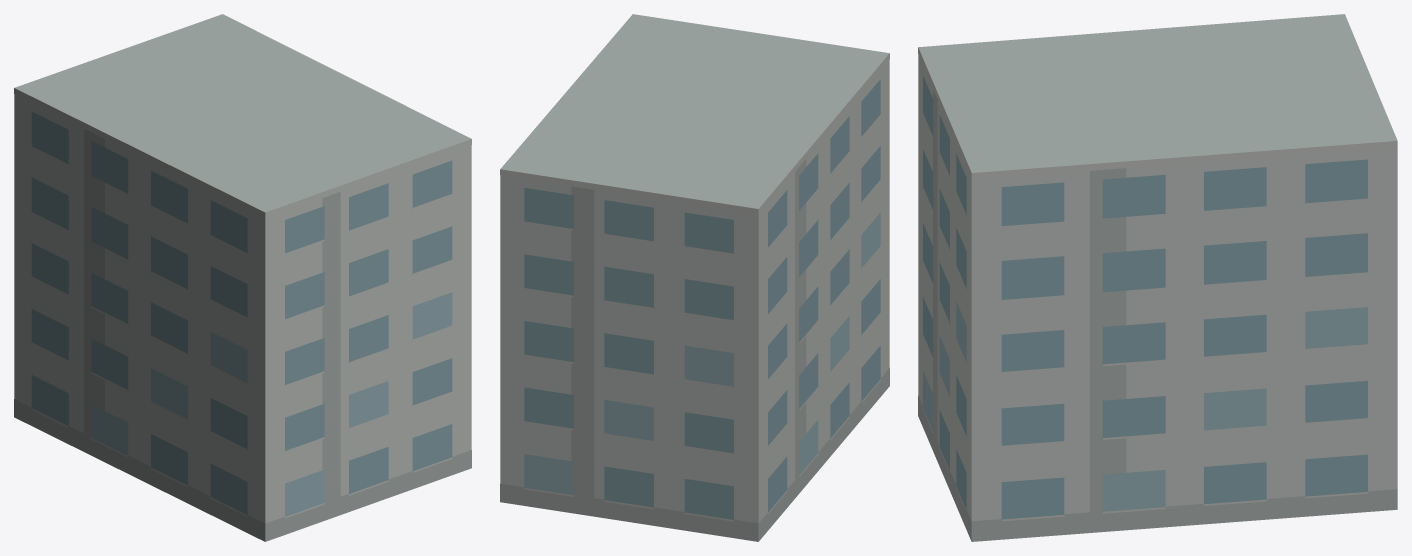
File: survey-upis-32840911.glb
3 views of the same model, side by side, from view 1: azimuth 30°, elevation 25°; view 2: azimuth 150°, elevation 25°; view 3: azimuth 270°, elevation 25° (orthographic). The views are drawn at different scales.
Visible parts, largest first — view 1: survey-upis-32840911.tmp; view 2: survey-upis-32840911.tmp; view 3: survey-upis-32840911.tmp.
Boxes of the visible parts, x1,y1,x2,y2 form: survey-upis-32840911.tmp: (14, 14, 471, 541); survey-upis-32840911.tmp: (500, 14, 889, 541); survey-upis-32840911.tmp: (918, 14, 1397, 541).
Bounding box in the file's own units: 12.31 × 13.3 × 15.68.
